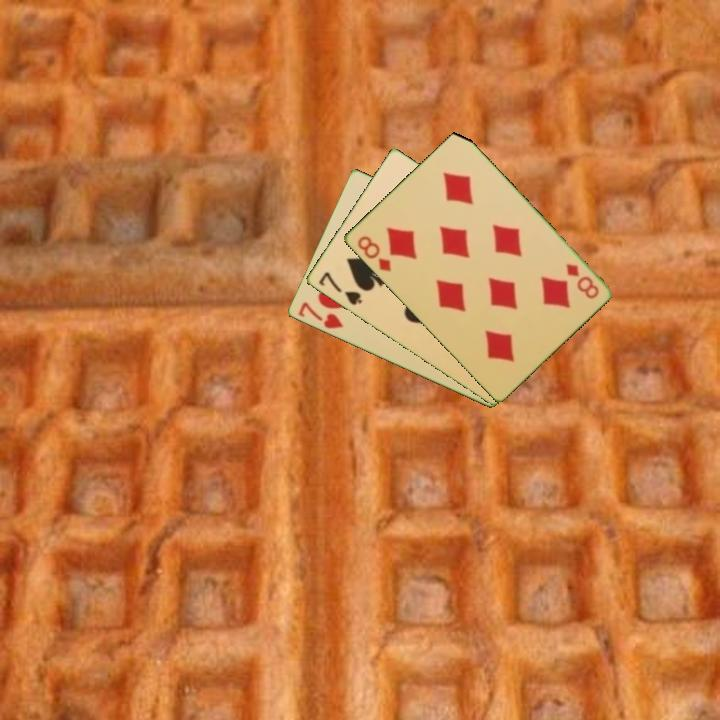7h: (294, 298, 346, 332)
7s: (315, 268, 365, 308)
8d: (353, 232, 394, 275), (562, 260, 601, 302)
